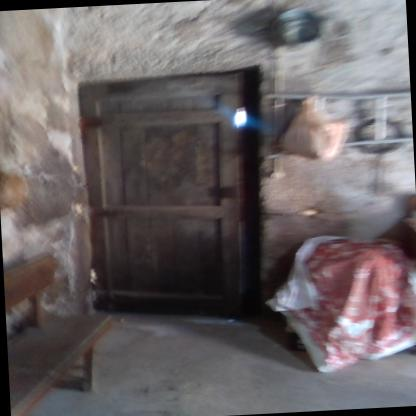closed: (55, 43, 286, 336)
